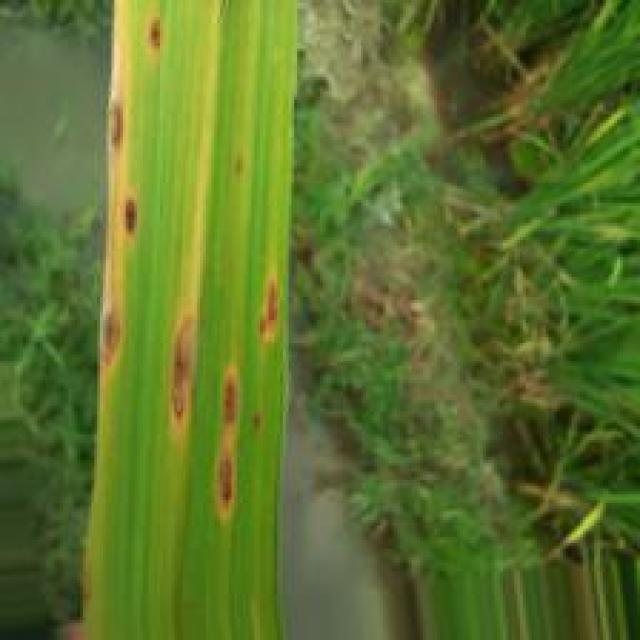Brown_Spot: (171, 319, 199, 437), (218, 365, 239, 517), (260, 281, 279, 343), (140, 17, 172, 53), (118, 195, 144, 239), (102, 308, 120, 370), (110, 96, 122, 156)
